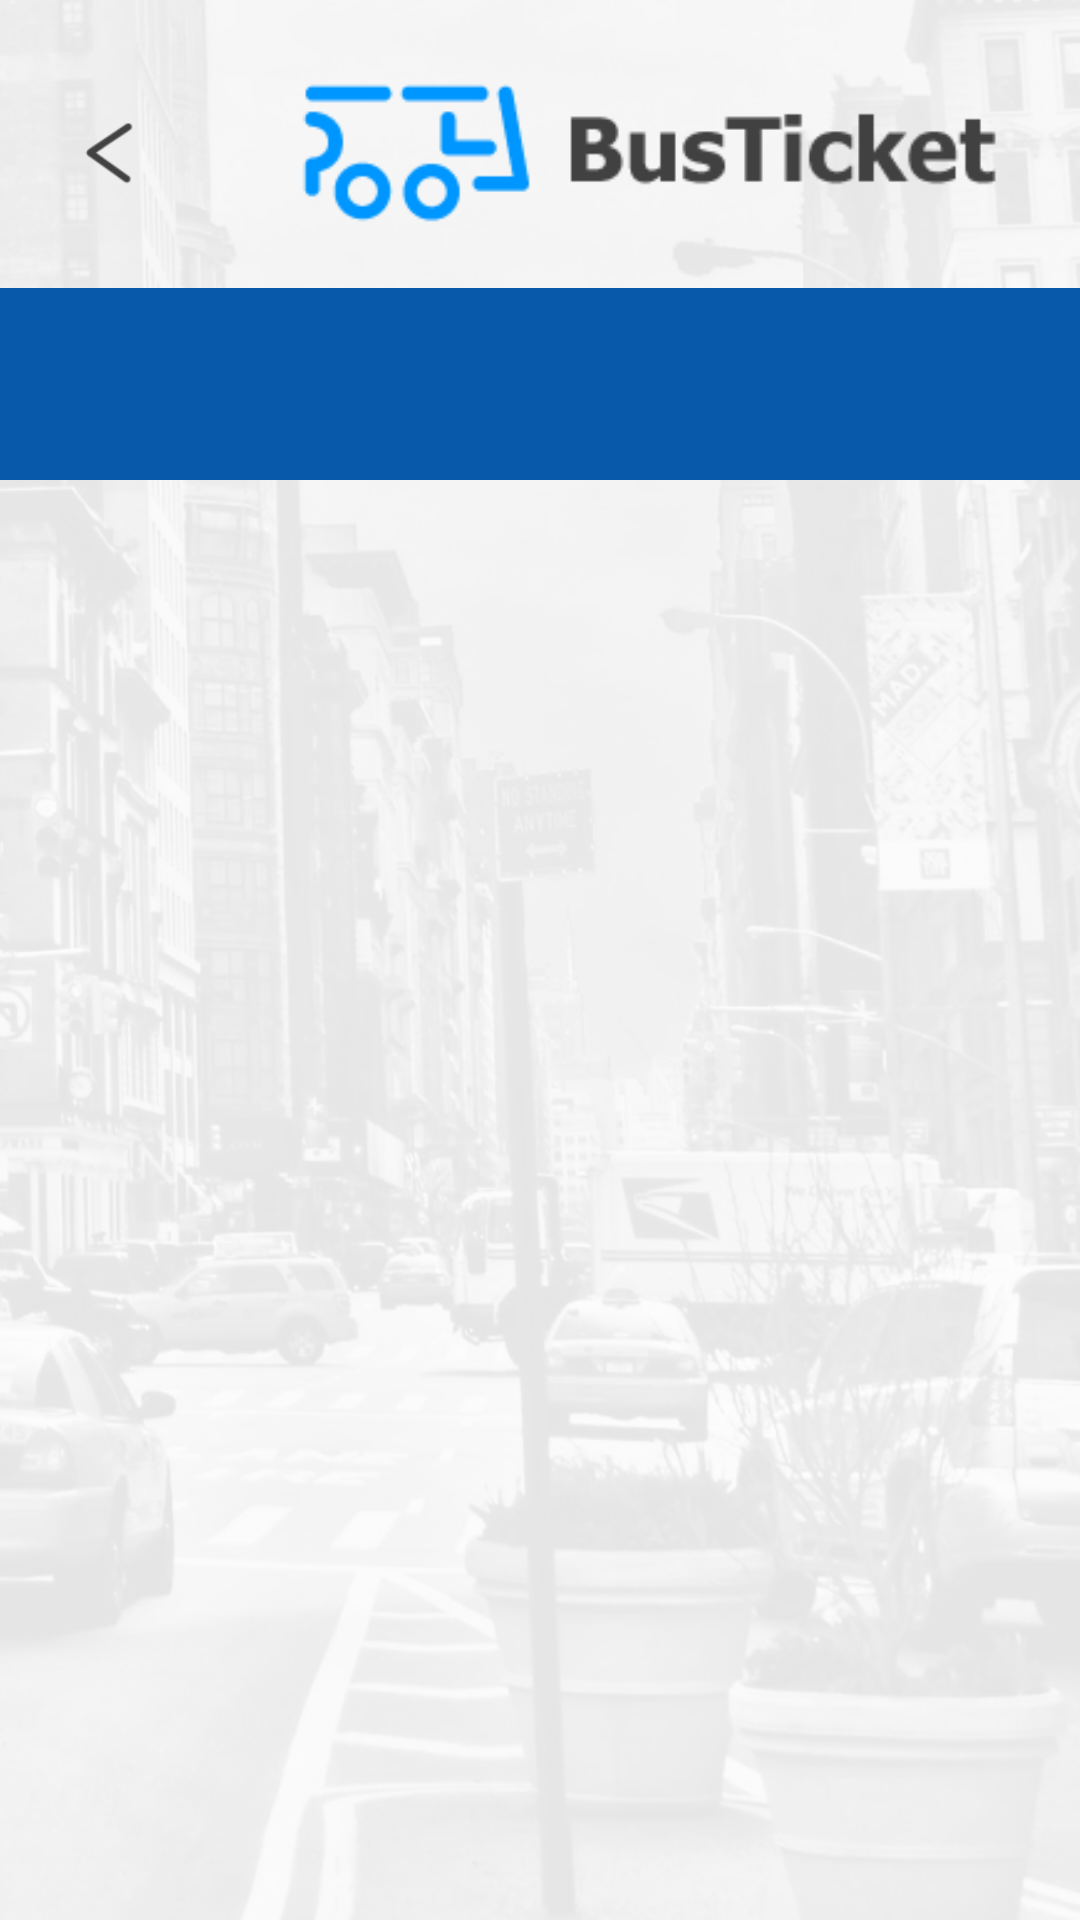

Icon bounding boxes for this 1080×1920 phone screenshot, format (x1, y1, x2, y2):
back: (86, 123, 132, 183)
